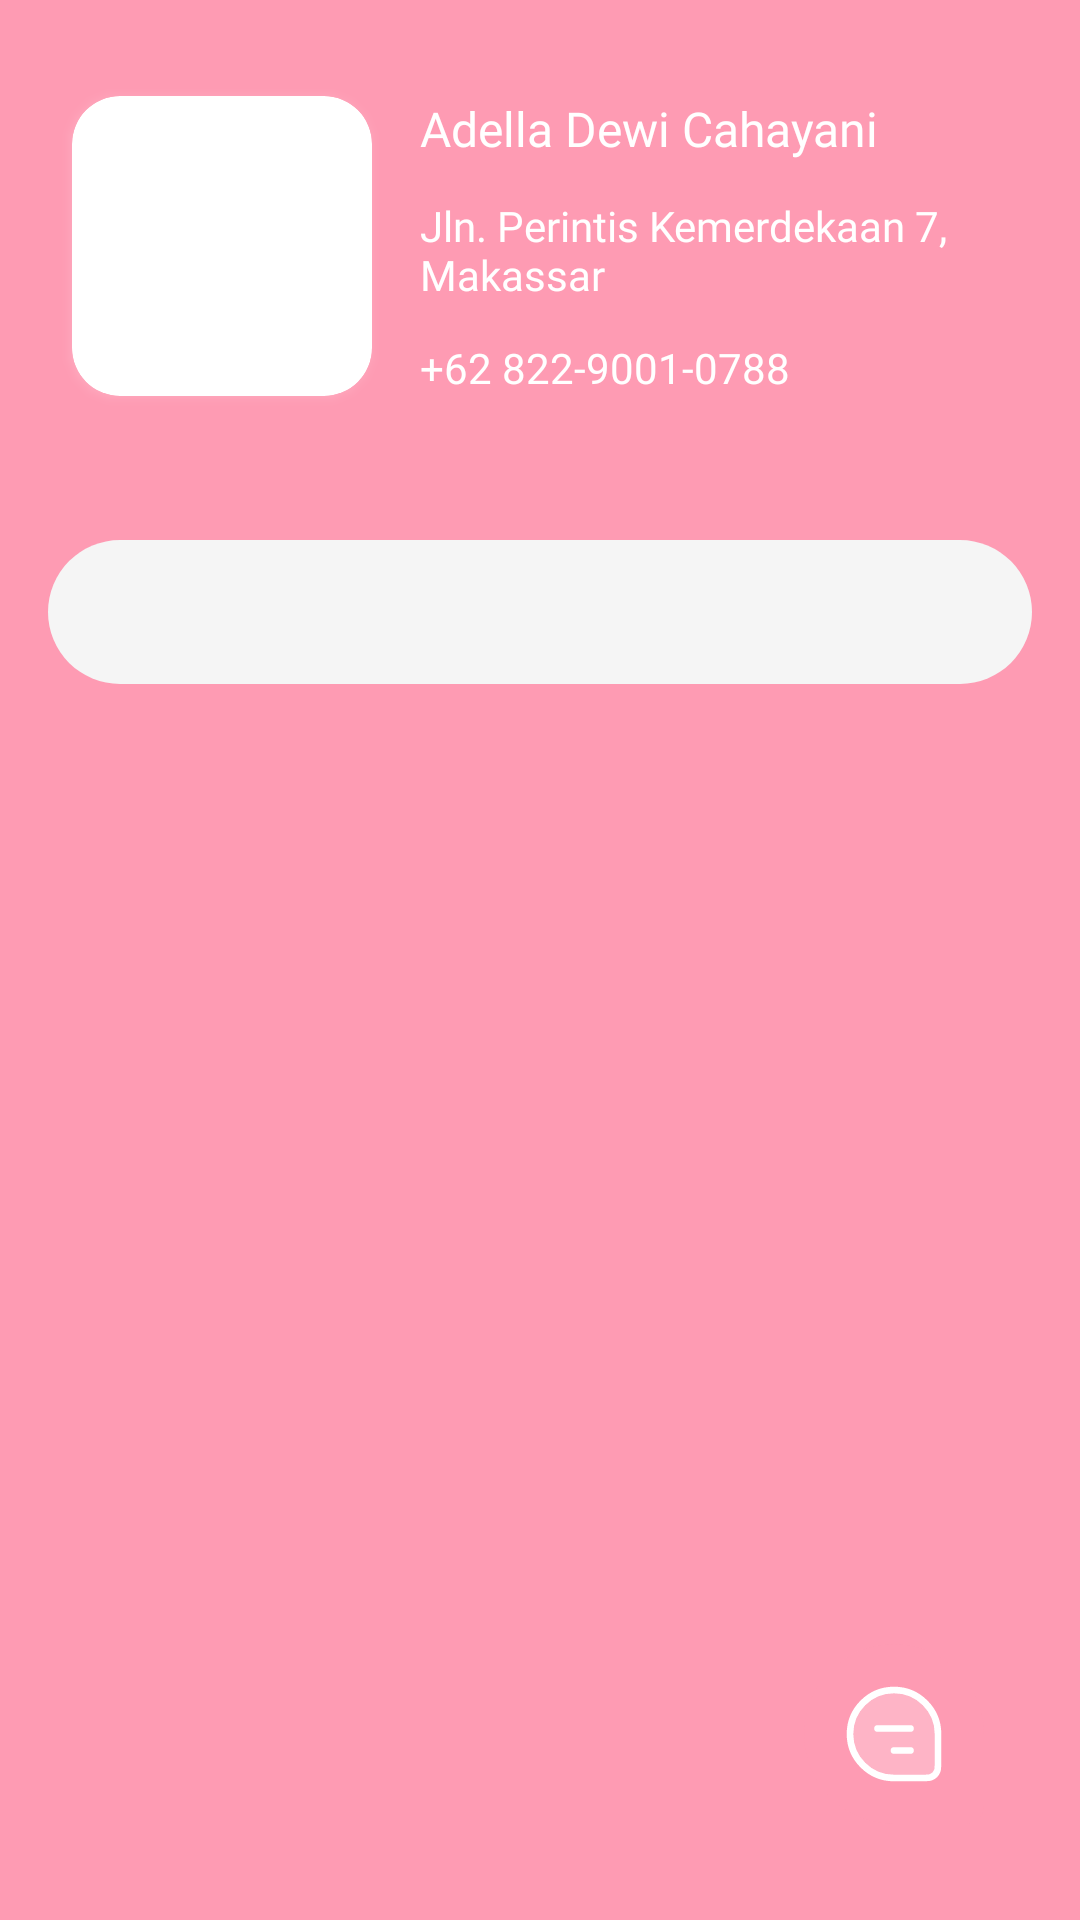

Point at icon controls on the screen. Image size 1080px×1920px, points as [x,y].
chat: [894,1734]
